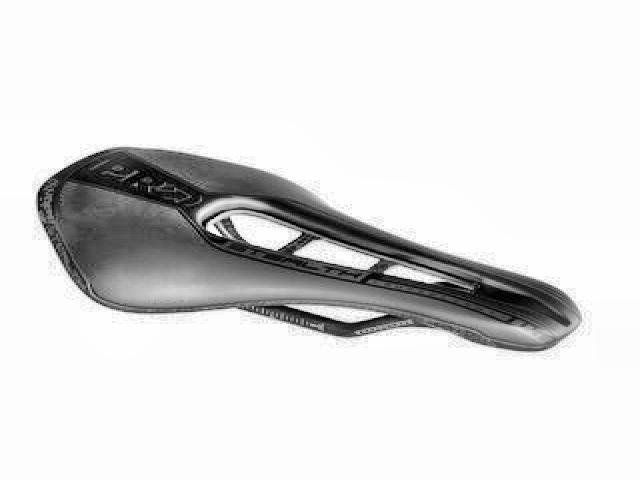saddle: (34, 141, 584, 361)
